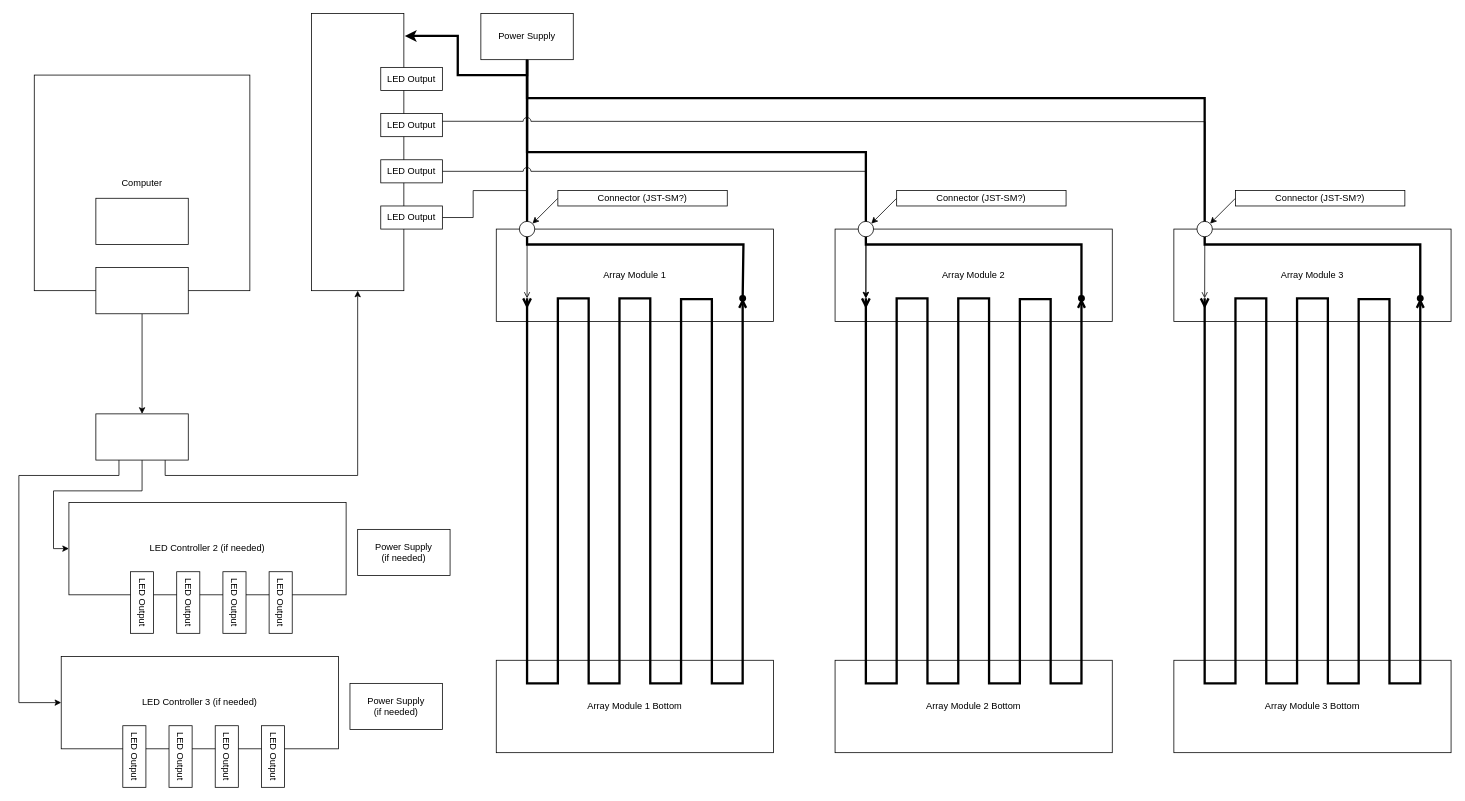
Some shapes in this 1465 by 801 pixel diagram are drawn without their labels. The centre of each missing label's shape, as x and y in pixels:
"Ethernet Output" goes at [141,290].
"LED Controller" goes at [357,152].
"NetworkSwitch (if needed)" goes at [141,436].
"TouchDesigner" goes at [141,221].
